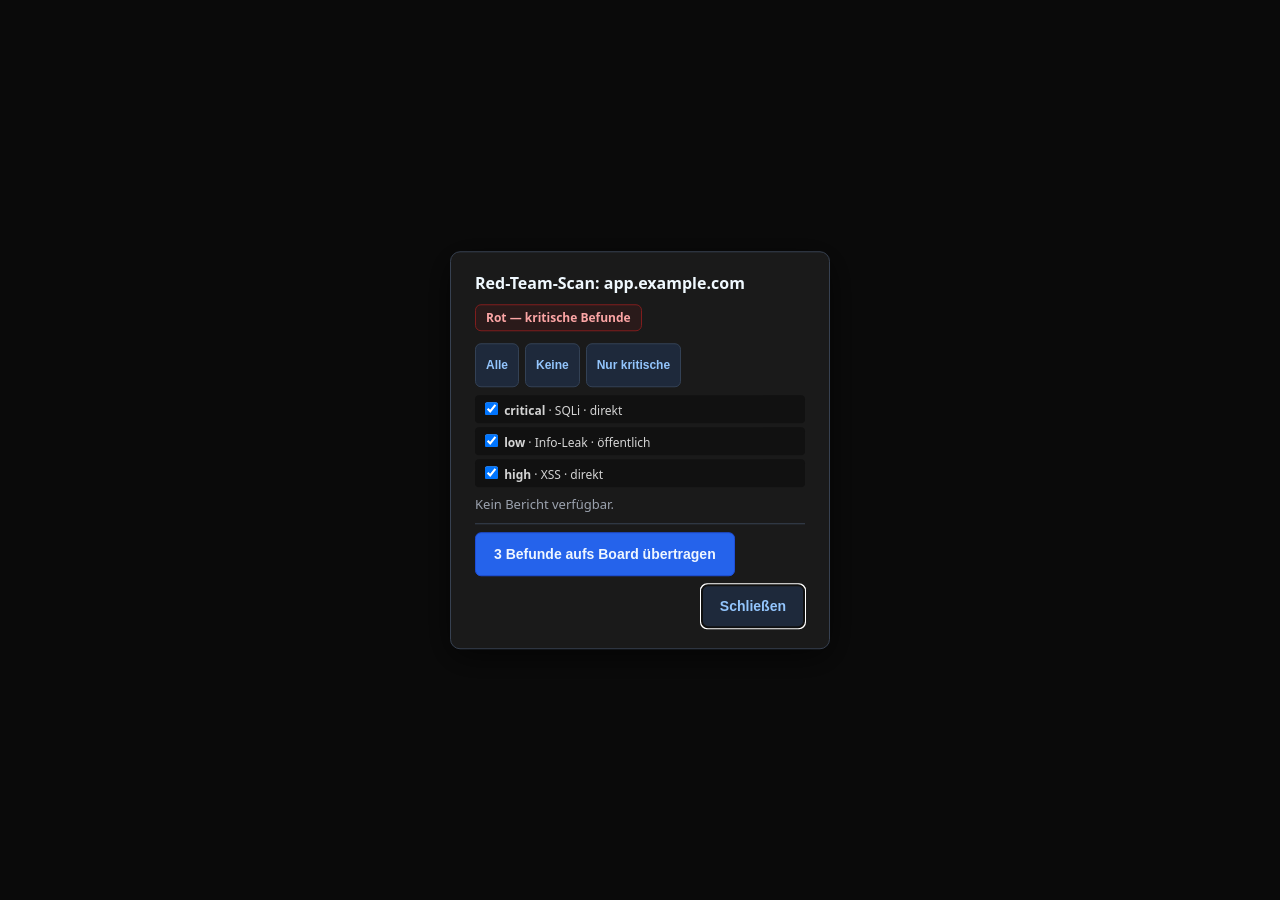
Scenario: RedTeamScanPanel — AC18: Befundliste mit Vorauswahl › Schnellwahl "Nur kritische" wählt severity high/critical
Expected: the button with test id "redteam-board-transfer-btn" shows "3 Befunde", [475, 532, 735, 576]
Click the button with test id "redteam-select-critical" at (633, 365), box [586, 343, 681, 387]
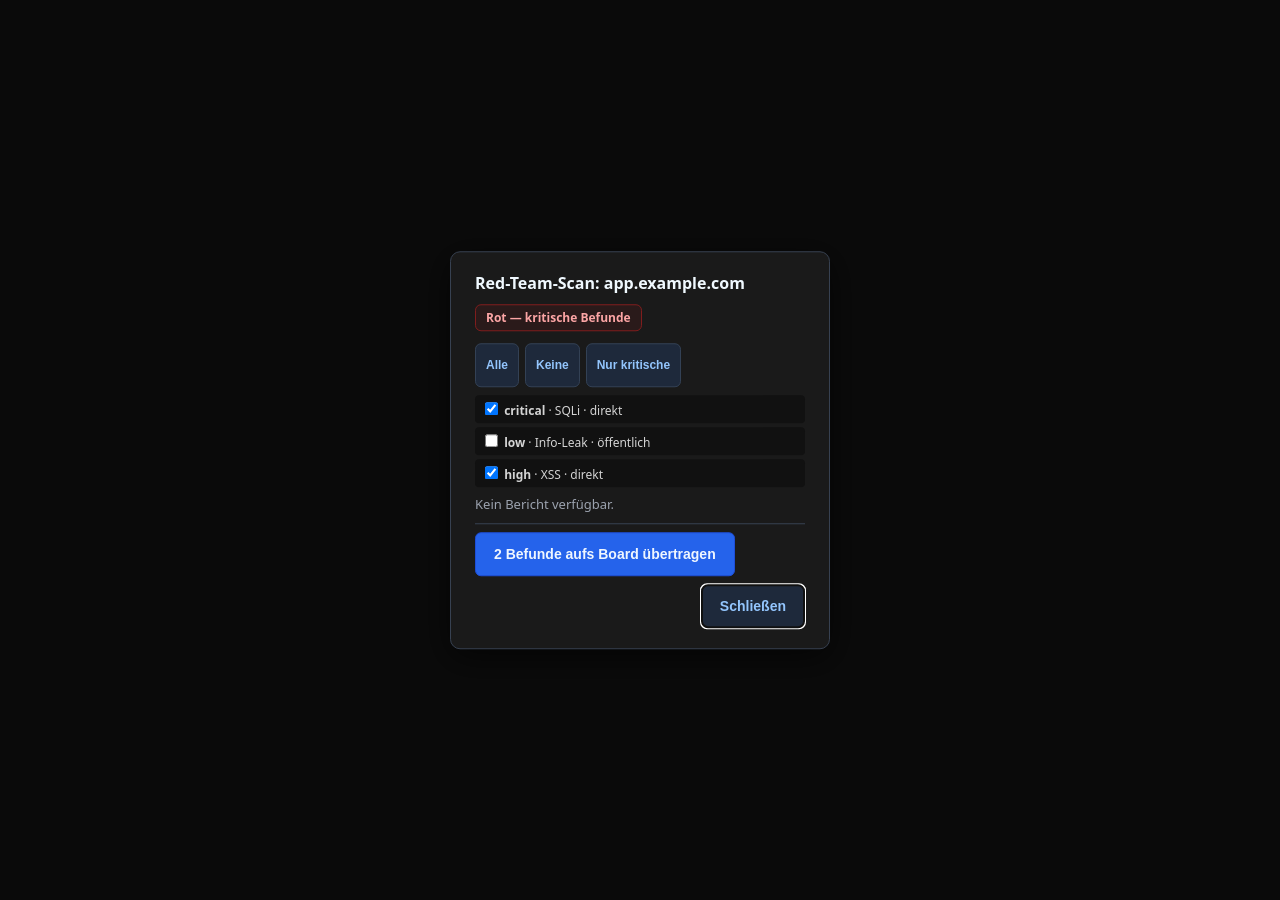
Expected: the checkbox with test id "redteam-finding-checkbox-f1" is checked, [485, 402, 498, 415]
Result: the checkbox with test id "redteam-finding-checkbox-f2" is not checked at [485, 434, 498, 447]
